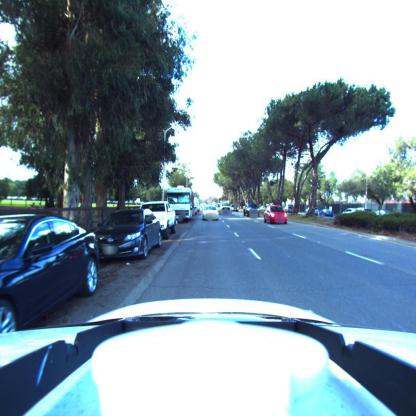car: (0, 214, 101, 337), (94, 209, 163, 262), (140, 201, 177, 237), (264, 204, 288, 223), (243, 202, 259, 216), (203, 208, 219, 221)
truck: (166, 187, 198, 223)
